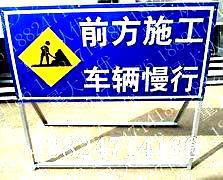sign: (3, 1, 216, 102)
